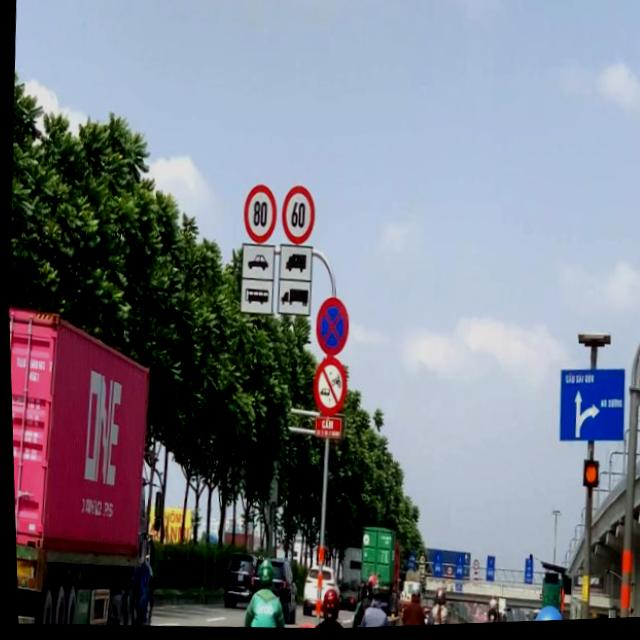Cam dung xe va do xe: (310, 295, 351, 362)
Toc do toi da cho phep: (238, 184, 279, 248), (277, 185, 317, 249)
